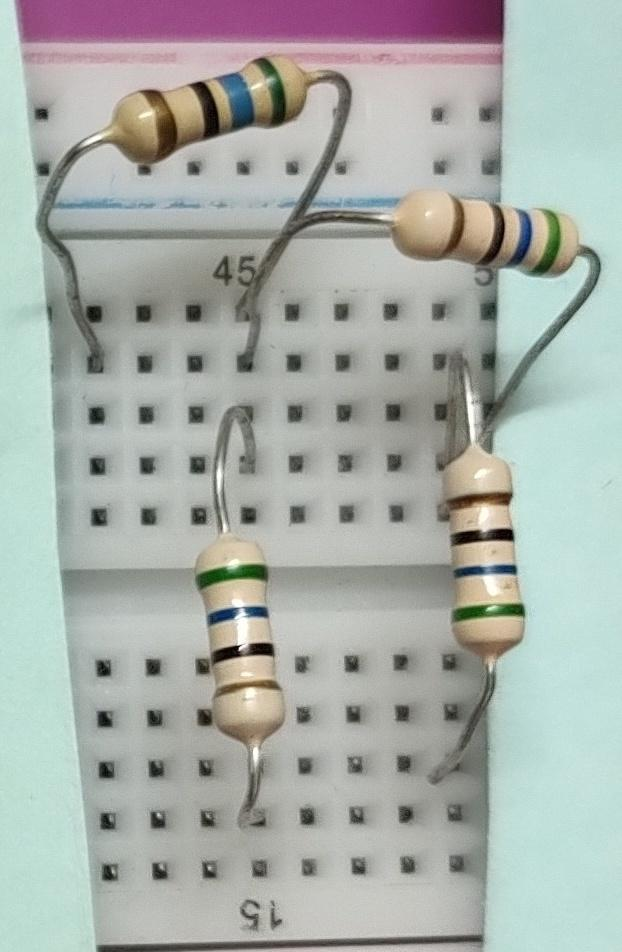resistor: (185, 522, 310, 752), (105, 48, 312, 178), (428, 430, 538, 668), (370, 180, 592, 295)
